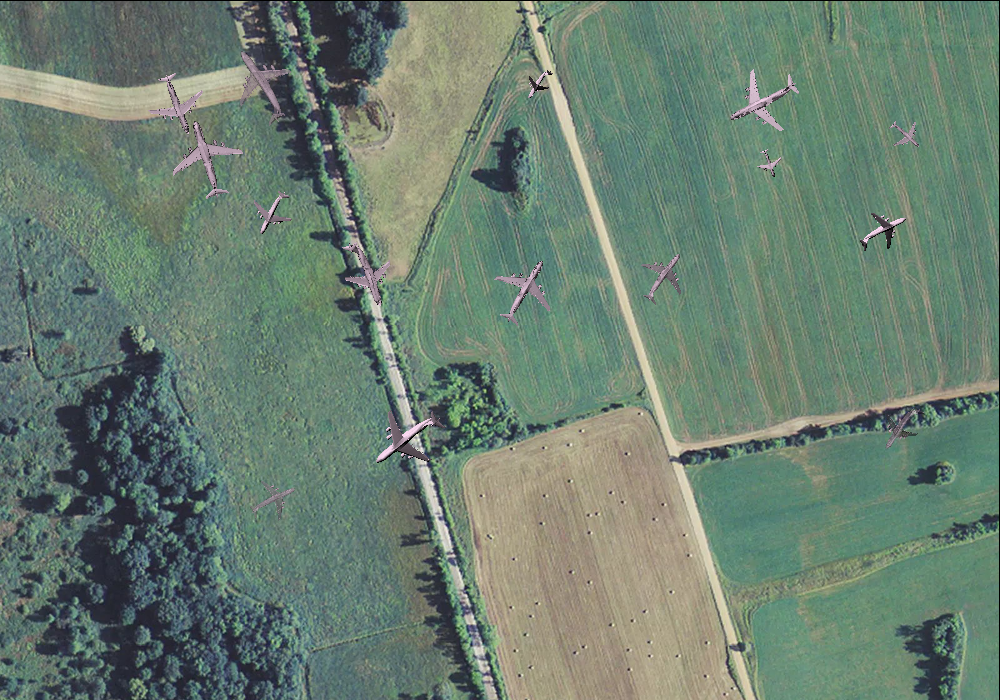plane: (354, 387, 460, 492), (208, 32, 312, 138), (713, 51, 813, 149), (158, 109, 253, 208), (478, 244, 571, 338), (325, 231, 405, 317), (138, 63, 215, 143), (625, 238, 702, 316), (869, 394, 936, 462), (849, 198, 917, 264), (240, 468, 305, 533), (241, 181, 303, 244), (881, 110, 930, 159), (517, 61, 560, 106), (751, 144, 787, 181)
